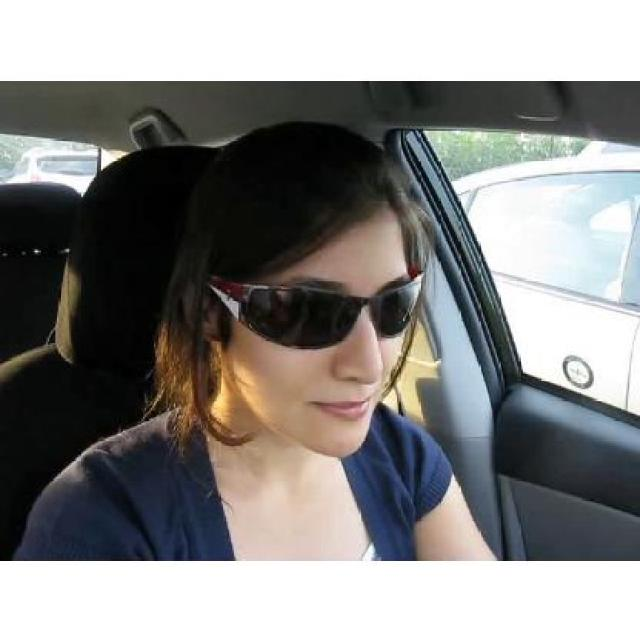attentif: (183, 118, 411, 458)
